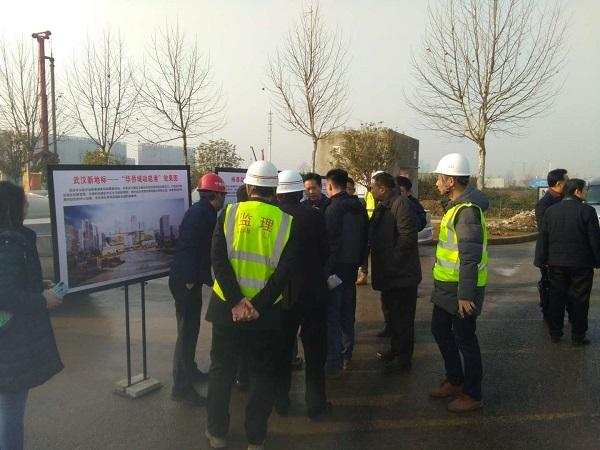helmet: (435, 154, 473, 180), (246, 162, 280, 188), (277, 170, 305, 195), (199, 174, 229, 195)
